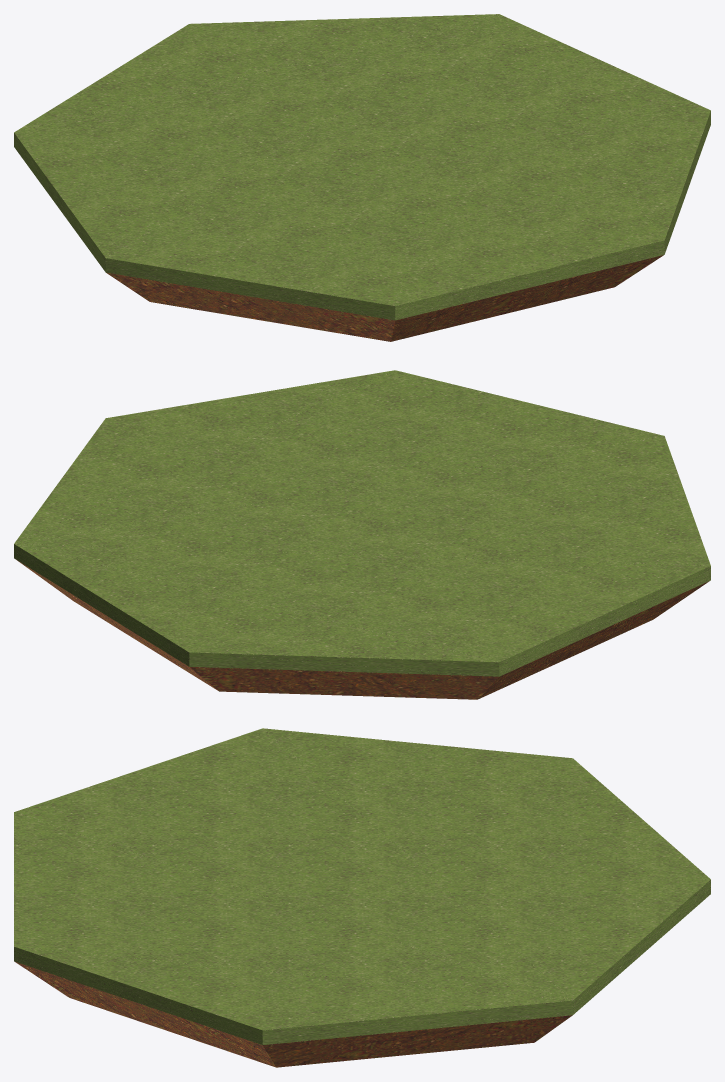
File: island.fbx
3 views of the same model, one above another, from view 1: azimuth 30°, elevation 25°; view 2: azimuth 150°, elevation 25°; view 3: azimuth 270°, elevation 25° (orthographic). The views are drawn at different scales.
Parts seen in each view (by area): view 1: Cylinder; view 2: Cylinder; view 3: Cylinder.
Part boxes in pixels (x1,y1,x2,y2): Cylinder: (14,14,710,341); Cylinder: (14,370,710,699); Cylinder: (14,728,710,1067).
Bounding box in the file's own units: 1951 × 298 × 1902.
Materials: 2 (2 with a texture image).
